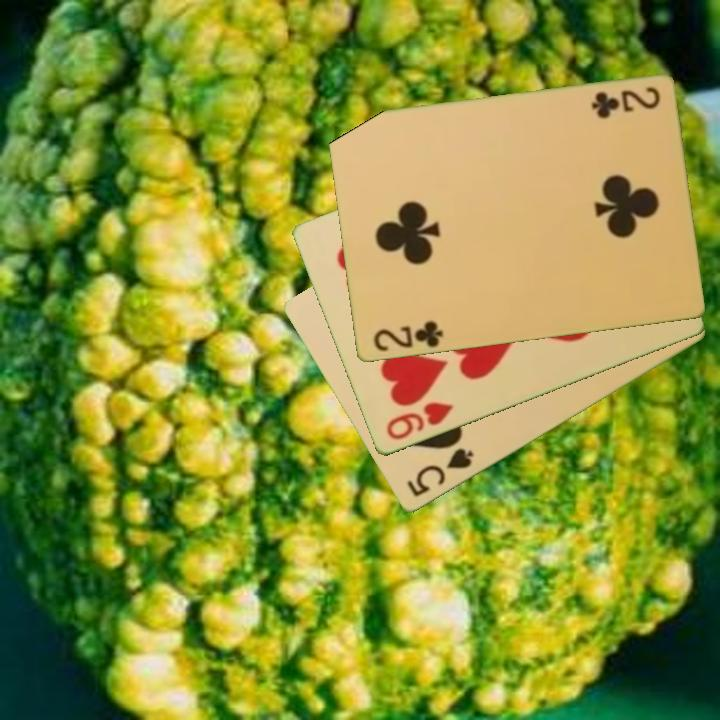2c: (369, 318, 446, 355), (587, 84, 663, 120)
5s: (403, 445, 477, 501)
9h: (382, 399, 457, 444)
